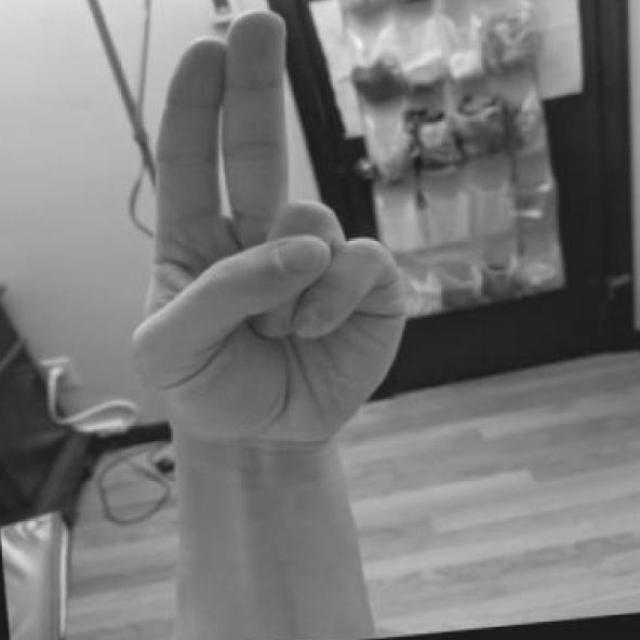U: (108, 3, 420, 640)
